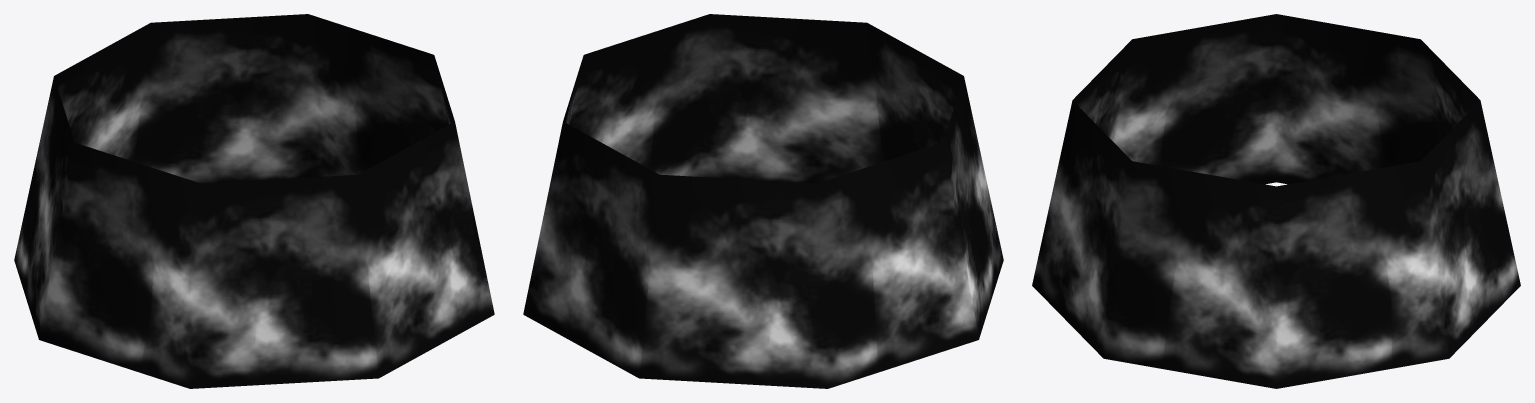
3 views of the same model, side by side, from view 1: azimuth 30°, elevation 25°; view 2: azimuth 150°, elevation 25°; view 3: azimuth 270°, elevation 25° (orthographic).
Visible parts, largest first — view 1: wu; view 2: wu; view 3: wu.
Part boxes in pixels (bbox=[...]): wu: bbox=[14, 14, 494, 388]; wu: bbox=[523, 14, 1003, 388]; wu: bbox=[1032, 14, 1520, 388].
Bounding box in the file's own units: 5383 × 2253 × 5383.
